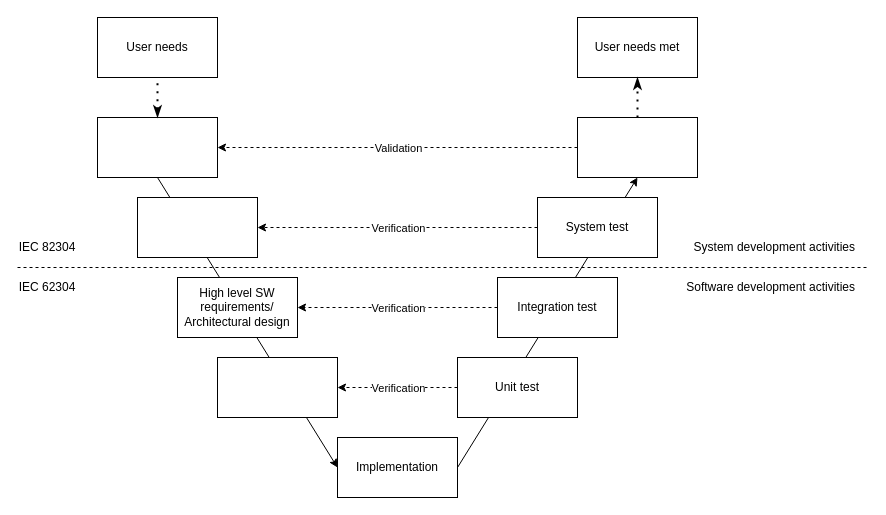
The diagram is 886 pixels wide and 515 high, and some of its shapes have lost their labels. The shapes that lost their labels are listed below. From the top down, each one's centre as x and y in pixels, then its label:
At pixel 157 147: "Use requirements".
At pixel 637 147: "Acceptance test".
At pixel 197 227: "System requirements".
At pixel 277 387: "Low level SW requirements/ Detailed design".
